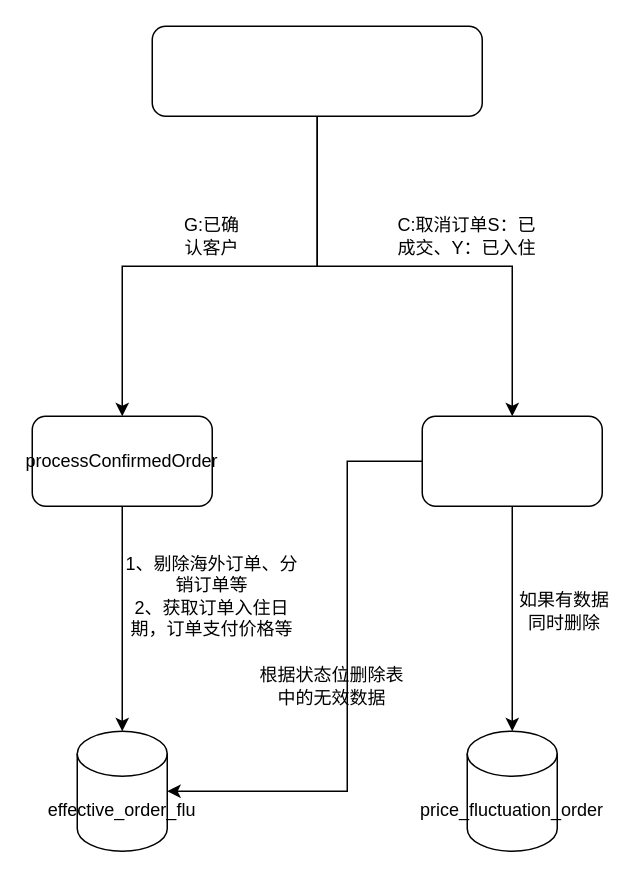
Image size: 642x878. Some labels were removed from this diagram. Each missing label, with the box of its shape:
processRemoveOrder: (421, 415, 602, 506)
订单状态变化qmq: ctrip.hotel.order.status.delaynotify: (151, 25, 482, 116)
